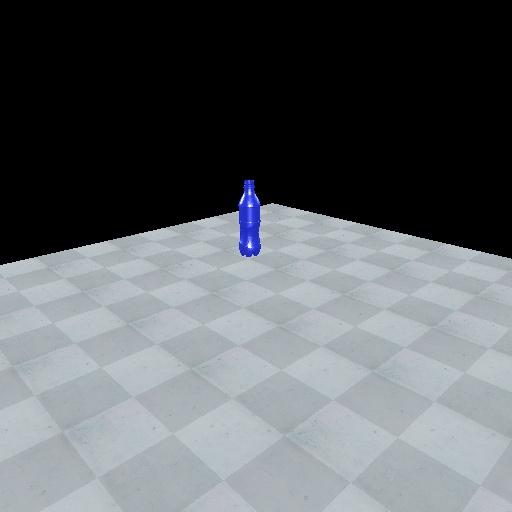bottle: (236, 176, 263, 259)
